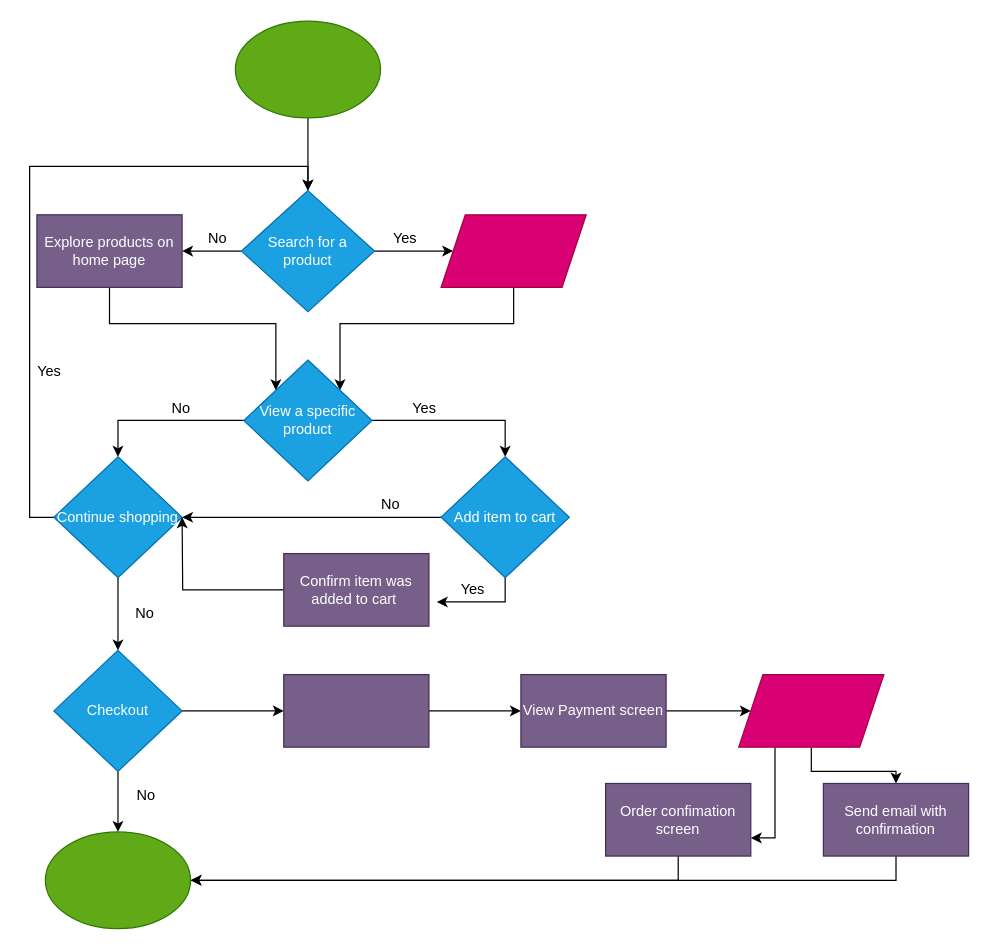
This 990x950 diagram has some shape labels left out. The shapes that lost their labels are listed below. From the top down, each one's centre as x and y in pixels, then its label:
At point 307,69: "Start (Enter the website)".
At point 513,250: "Search input".
At point 356,710: "View Cart screen".
At point 810,710: "Payment info input".
At point 117,880: "End (Leave the website)".
